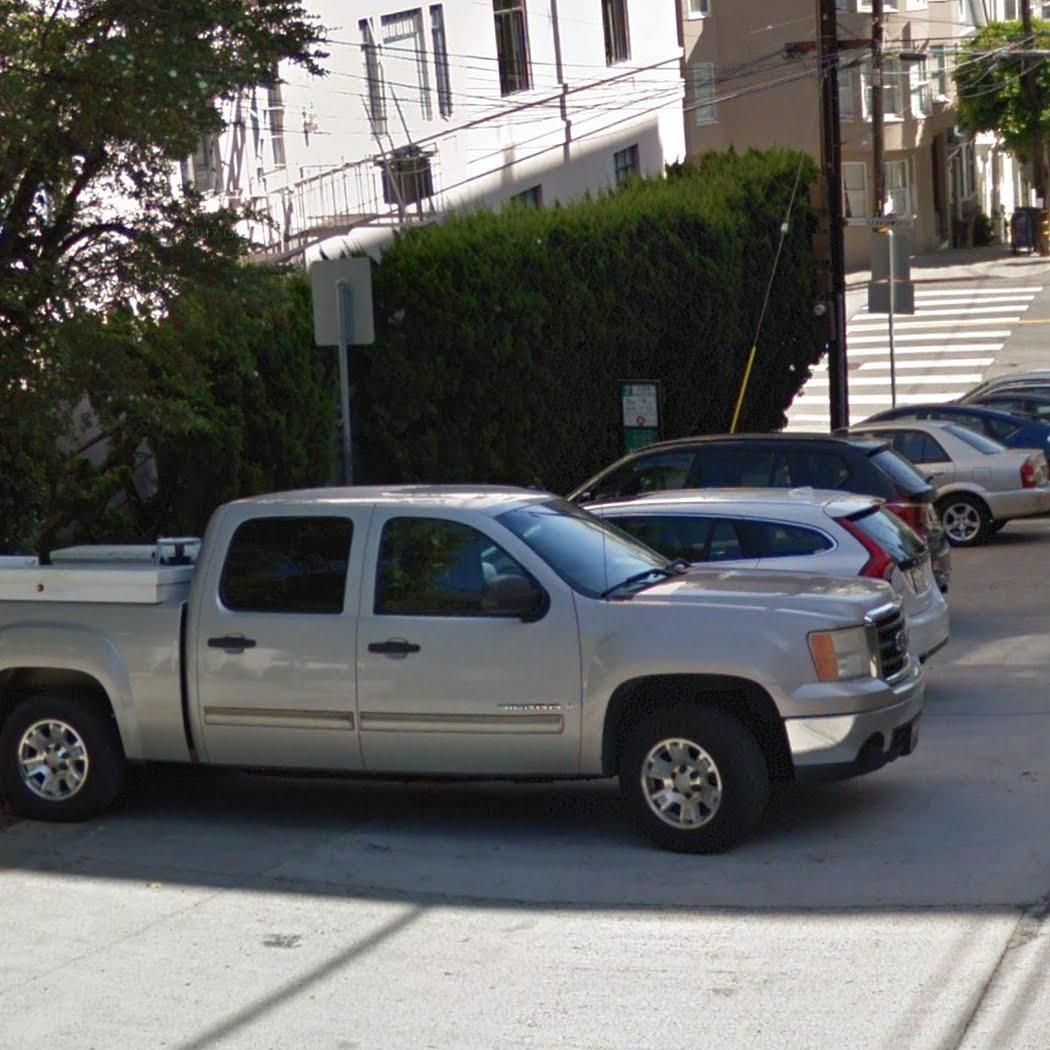2 Hour Parking: (621, 383, 657, 427)
